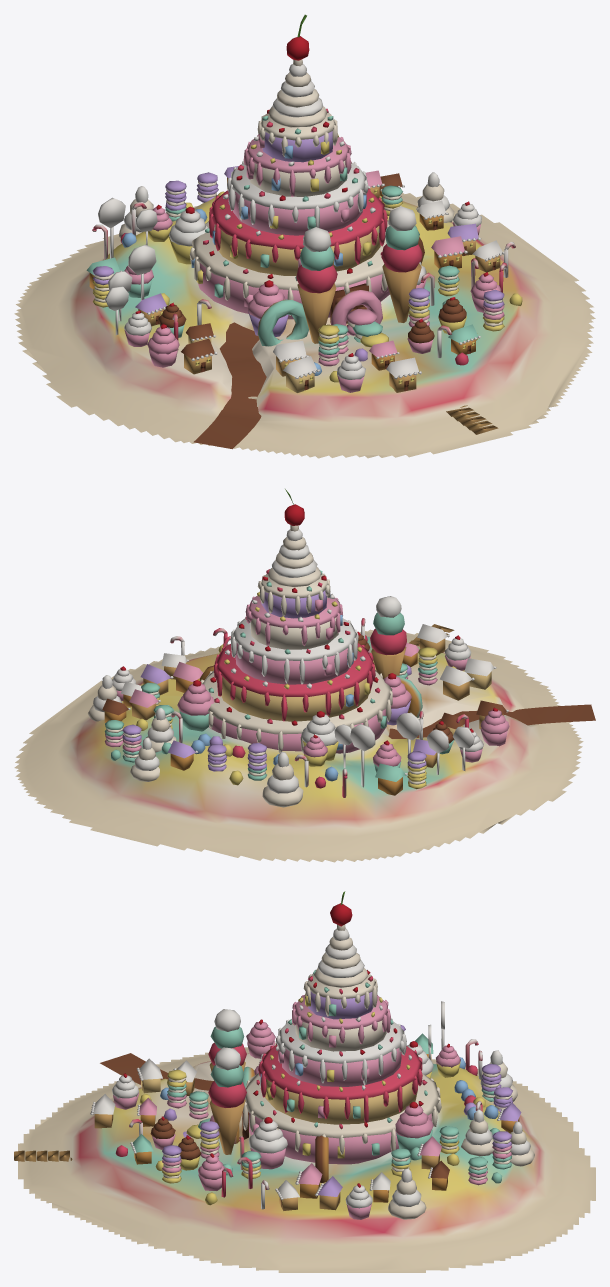
3 views of the same model, one above another, from view 1: azimuth 30°, elevation 25°; view 2: azimuth 150°, elevation 25°; view 3: azimuth 270°, elevation 25° (orthographic). The views are drawn at different scales.
Visible parts, largest first — view 1: BASE, VILLE_2, VILLE_4, VILLE_3; view 2: BASE, VILLE_2, VILLE_3, VILLE_4; view 3: BASE, VILLE_2, VILLE_4, VILLE_3.
Boxes of the visible parts, x1=… form: BASE: x1=14, y1=14, x2=595, y2=458; VILLE_2: x1=124, y1=170, x2=481, y2=392; VILLE_4: x1=86, y1=180, x2=429, y2=376; VILLE_3: x1=92, y1=166, x2=481, y2=326; BASE: x1=14, y1=489, x2=595, y2=862; VILLE_2: x1=102, y1=631, x2=483, y2=762; VILLE_3: x1=112, y1=666, x2=437, y2=789; VILLE_4: x1=247, y1=663, x2=508, y2=795; BASE: x1=14, y1=891, x2=595, y2=1272; VILLE_2: x1=112, y1=1073, x2=511, y2=1210; VILLE_4: x1=173, y1=1033, x2=501, y2=1158; VILLE_3: x1=345, y1=1025, x2=521, y2=1219.
Size of the model in its own units: 72 by 40.14 by 77.02.
